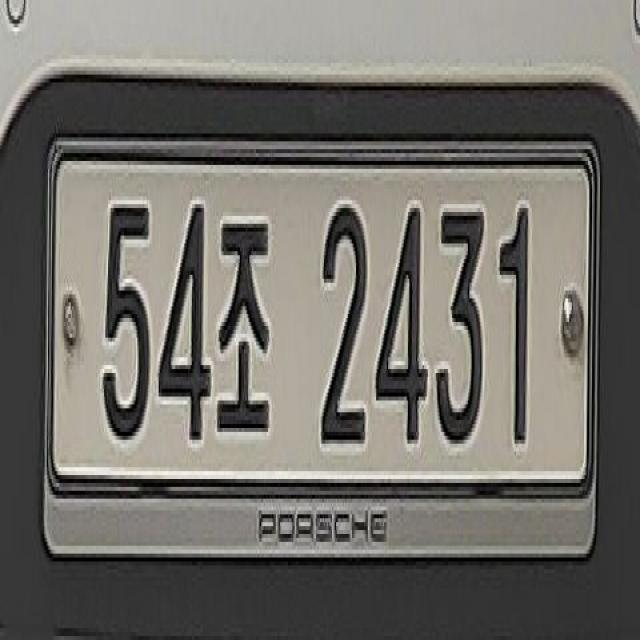1: (495, 192, 541, 475)
2: (308, 165, 368, 487)
3: (432, 165, 483, 459)
4: (373, 165, 436, 463), (156, 157, 217, 456)
5: (102, 172, 150, 444)
jo: (210, 204, 286, 440)
license_plate: (40, 146, 605, 570)
